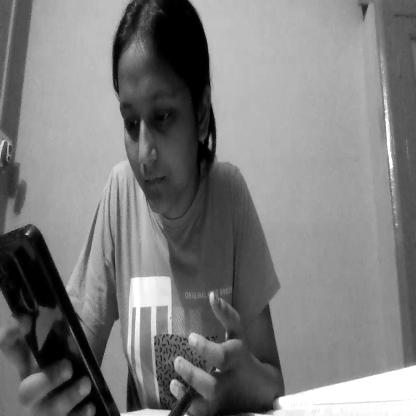Distracted: (107, 0, 209, 220)
